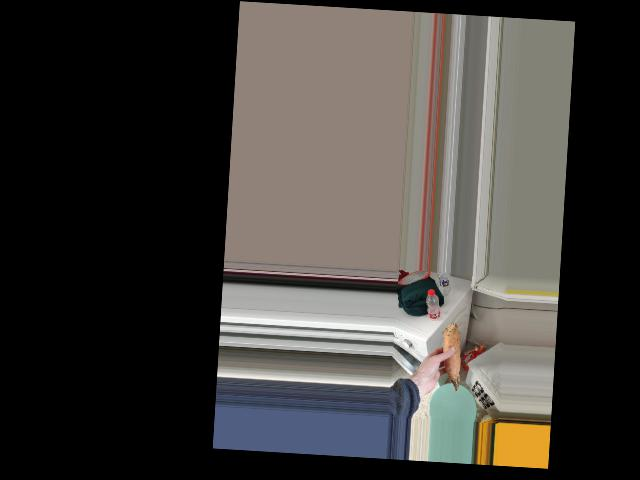sweet_potato: (442, 319, 461, 392)
